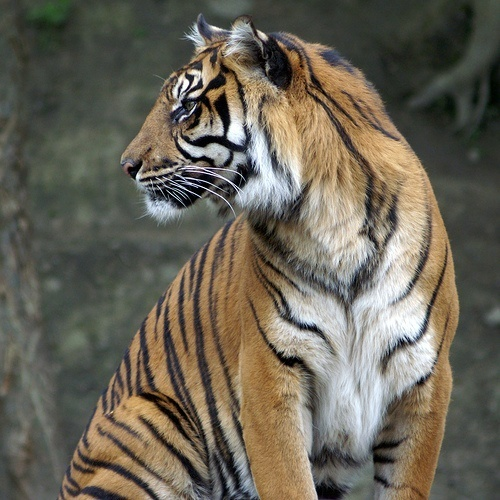tigre: (55, 14, 461, 500)
